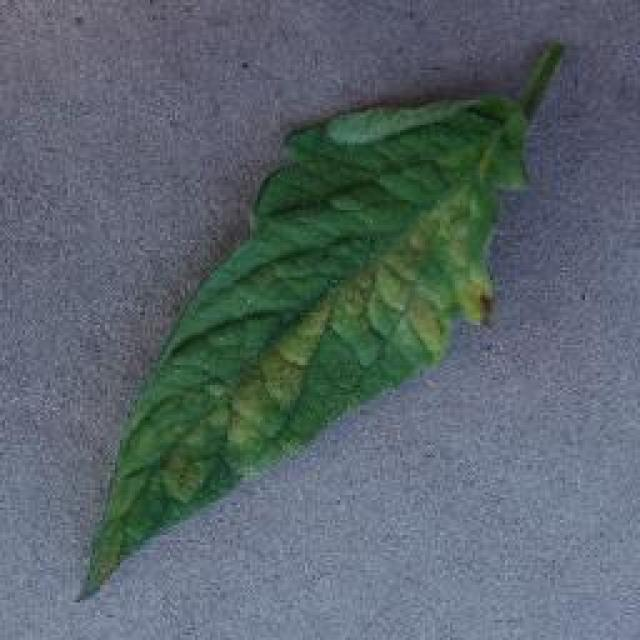leaf mold: (81, 41, 564, 595)
